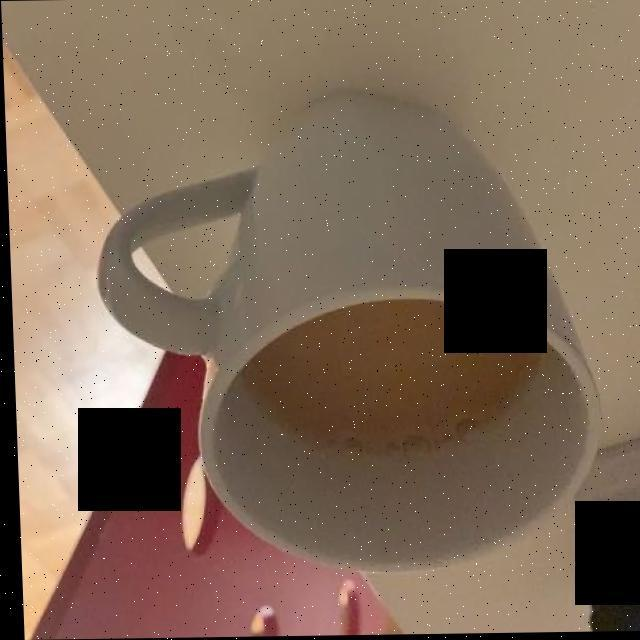drink: (251, 308, 526, 458)
